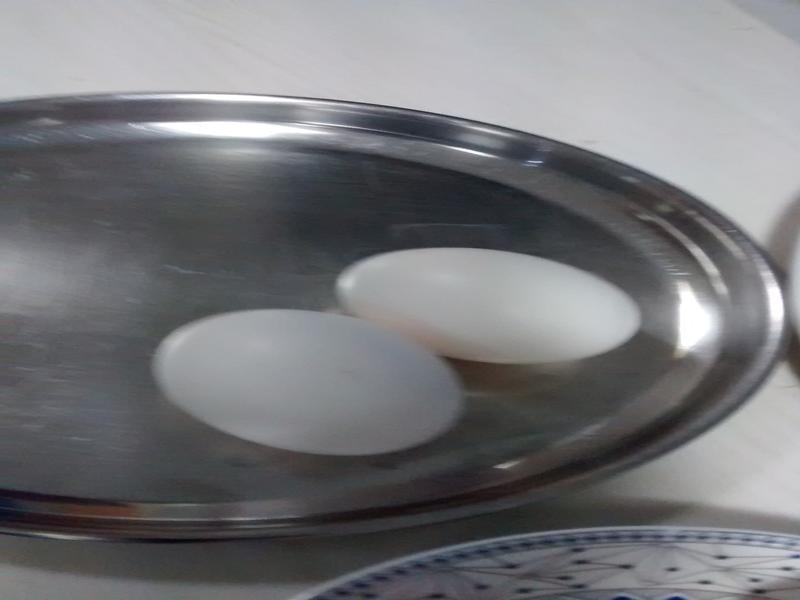egg: (152, 308, 468, 453)
